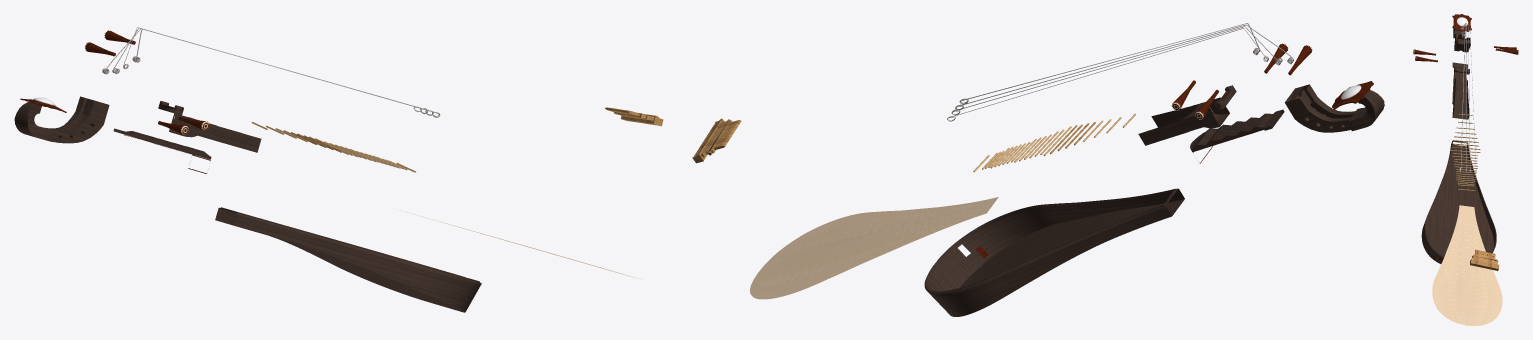
Rendered from 琵琶分解图.FBX.
The picture shows the model from 3 angles, left to right: view 1: azimuth 30°, elevation 25°; view 2: azimuth 150°, elevation 25°; view 3: azimuth 270°, elevation 25°; orthographic projection. The views are drawn at different scales.
Visible parts, largest first — view 1: 背板, 对象038, 琴颈001, 相, 缠弦; view 2: 背板, 面板, 对象038, 相, 琴颈001, 凤凰台, 子弦, 对象035, 中弦, 缠弦; view 3: 面板, 背板, 琴颈001, 对象038, 对象035, 相, 对象040, 凤凰台, 缠弦, 子弦, 中弦, 对象 (+1 smaller).
Boxes of the visible parts, x1=… form: 背板: x1=215, y1=207, x2=481, y2=312; 对象038: x1=14, y1=96, x2=109, y2=143; 琴颈001: x1=198, y1=126, x2=261, y2=152; 相: x1=113, y1=128, x2=211, y2=159; 缠弦: x1=132, y1=28, x2=440, y2=117; 背板: x1=924, y1=188, x2=1184, y2=316; 面板: x1=750, y1=197, x2=998, y2=299; 对象038: x1=1284, y1=84, x2=1384, y2=132; 相: x1=1190, y1=109, x2=1284, y2=152; 琴颈001: x1=1138, y1=106, x2=1194, y2=145; 凤凰台: x1=1182, y1=97, x2=1229, y2=131; 子弦: x1=955, y1=24, x2=1293, y2=109; 对象035: x1=692, y1=118, x2=728, y2=163; 中弦: x1=951, y1=26, x2=1282, y2=115; 缠弦: x1=959, y1=23, x2=1260, y2=104; 面板: x1=1432, y1=205, x2=1502, y2=325; 背板: x1=1421, y1=140, x2=1496, y2=263; 琴颈001: x1=1452, y1=92, x2=1469, y2=119; 对象038: x1=1453, y1=28, x2=1470, y2=52; 对象035: x1=1470, y1=255, x2=1499, y2=270; 相: x1=1452, y1=62, x2=1467, y2=104; 对象040: x1=1452, y1=14, x2=1471, y2=31; 凤凰台: x1=1453, y1=77, x2=1468, y2=97; 缠弦: x1=1459, y1=23, x2=1465, y2=171; 子弦: x1=1460, y1=23, x2=1466, y2=172; 中弦: x1=1461, y1=23, x2=1470, y2=172; 对象: x1=1473, y1=249, x2=1496, y2=260.
Bounding box in the file's own units: 1308 × 707 × 366.
52 materials, 51 textured.
